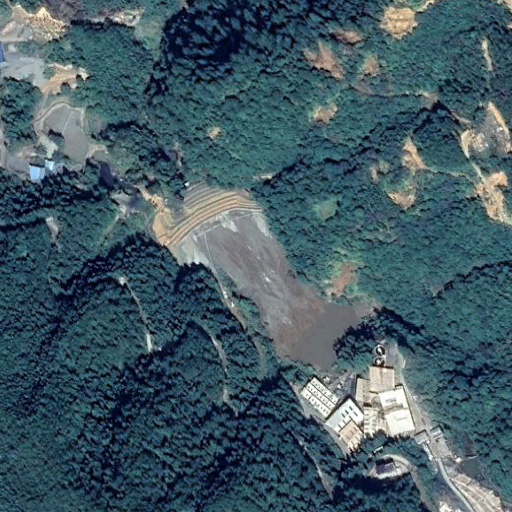tp: (150, 185, 381, 375)
